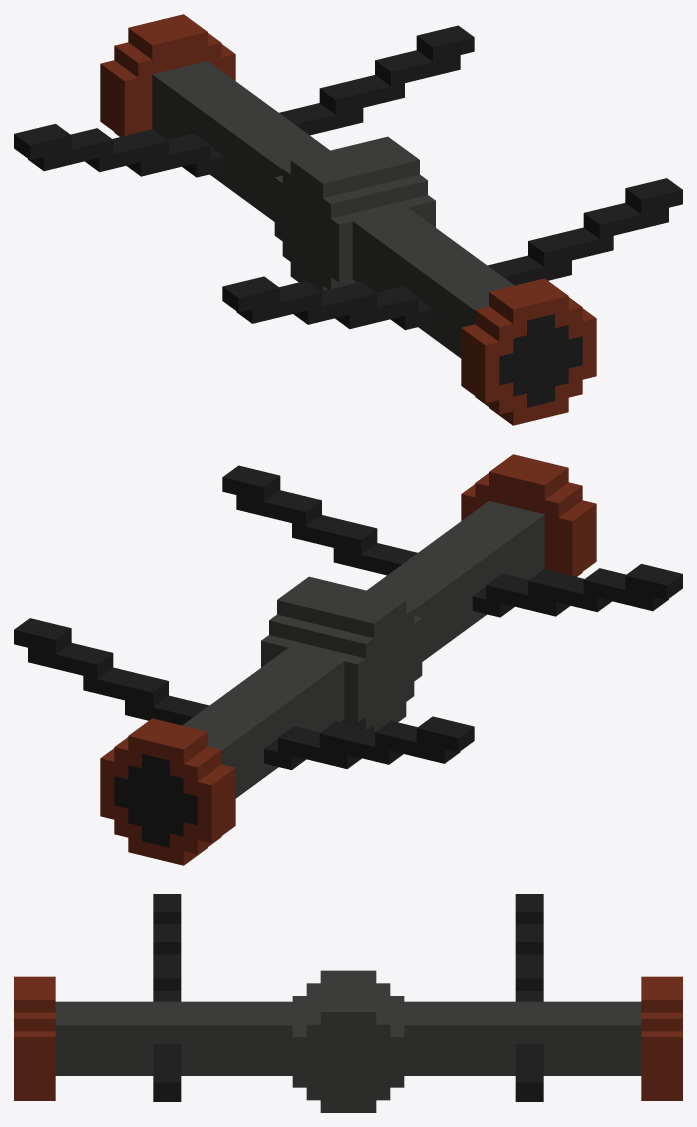
The model's file is abandoned_pickup_axle.glb.
3 renders of one model, top to bottom at view 1: azimuth 30°, elevation 25°; view 2: azimuth 150°, elevation 25°; view 3: azimuth 270°, elevation 25°, orthographic. The views are drawn at different scales.
Parts seen in each view (by area): view 1: body:compound; view 2: body:compound; view 3: body:compound.
Part boxes in pixels (<box>): body:compound: <box>14,14,682,425</box>; body:compound: <box>14,454,682,865</box>; body:compound: <box>14,894,682,1112</box>.
Size of the model in its own units: 1 by 0.25 by 1.5.
